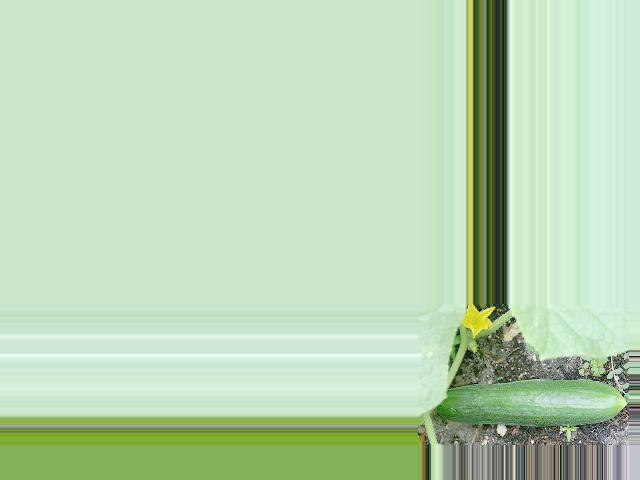cucumber: (436, 379, 627, 426)
